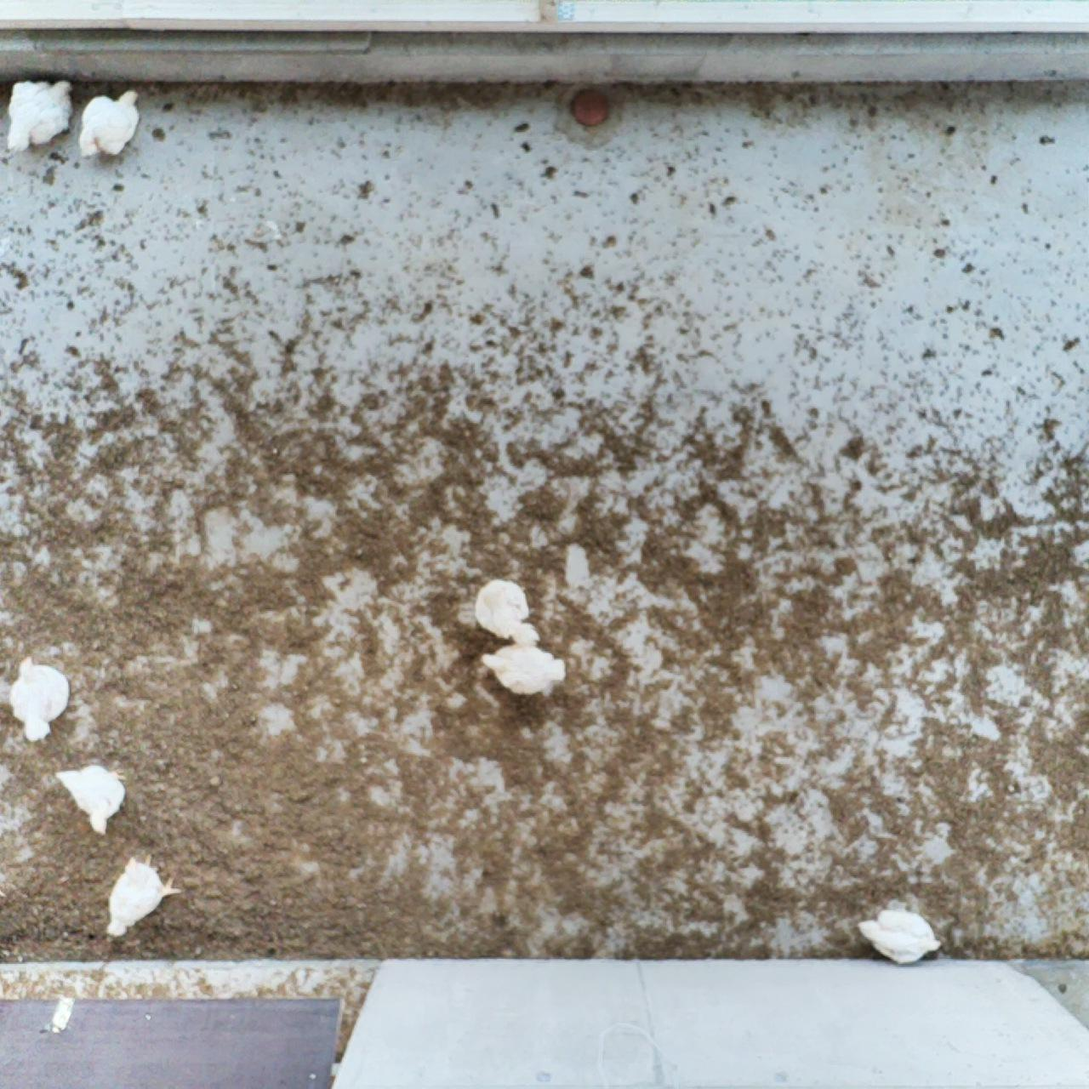chicken: (102, 850, 187, 946), (51, 758, 130, 841), (7, 653, 74, 744), (5, 77, 79, 153), (856, 906, 945, 969), (73, 86, 142, 167), (478, 643, 572, 702), (472, 578, 545, 649)
